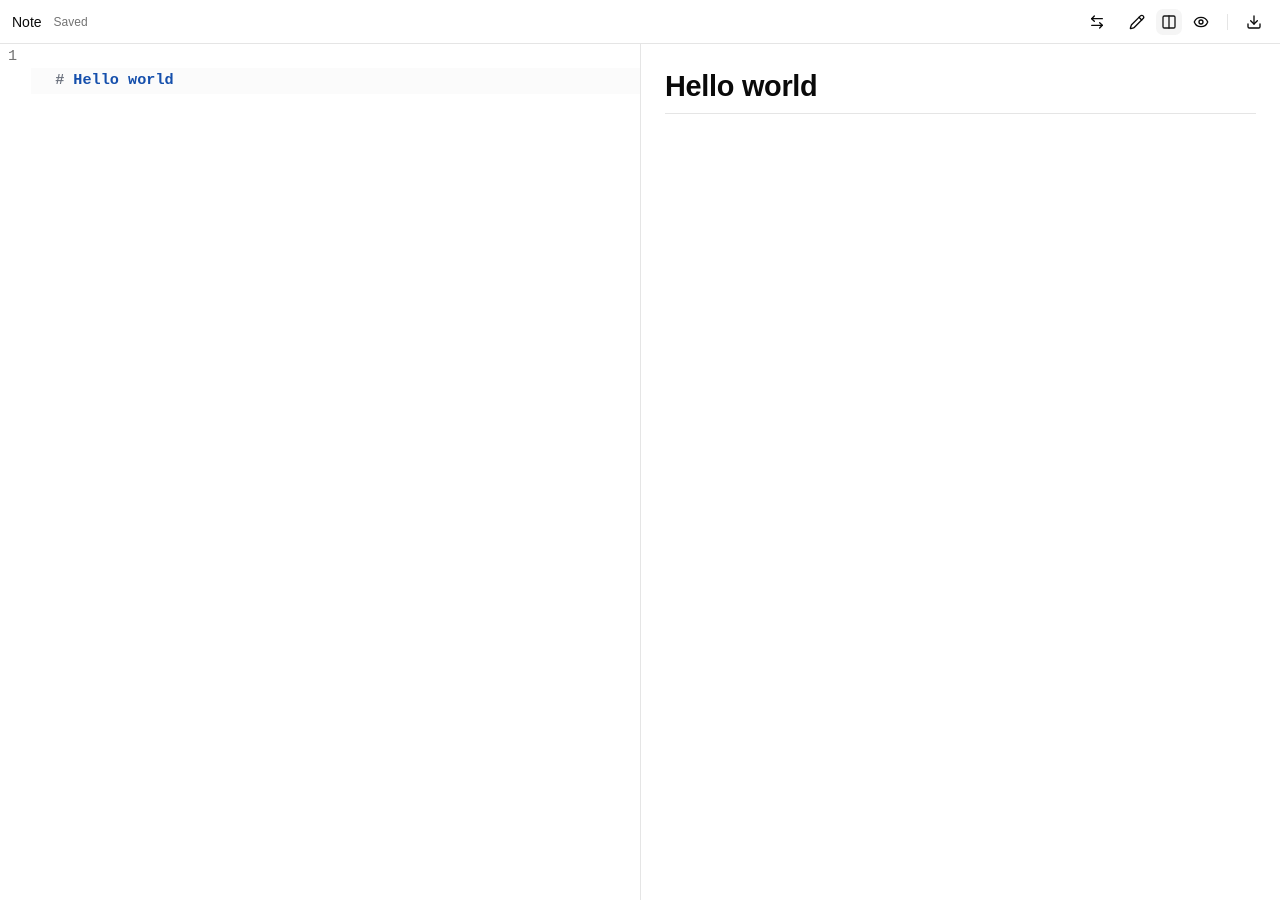
NotesEditor view modes › keeps the CodeMirror editor mounted when switching to preview and back
The width and height of the screenshot is (1280, 900).
Expected: the element with class "cm-editor" is shown, [0,44,640,899]
Click the button named "Preview only" at (1201, 22), box [1187,8,1215,36]
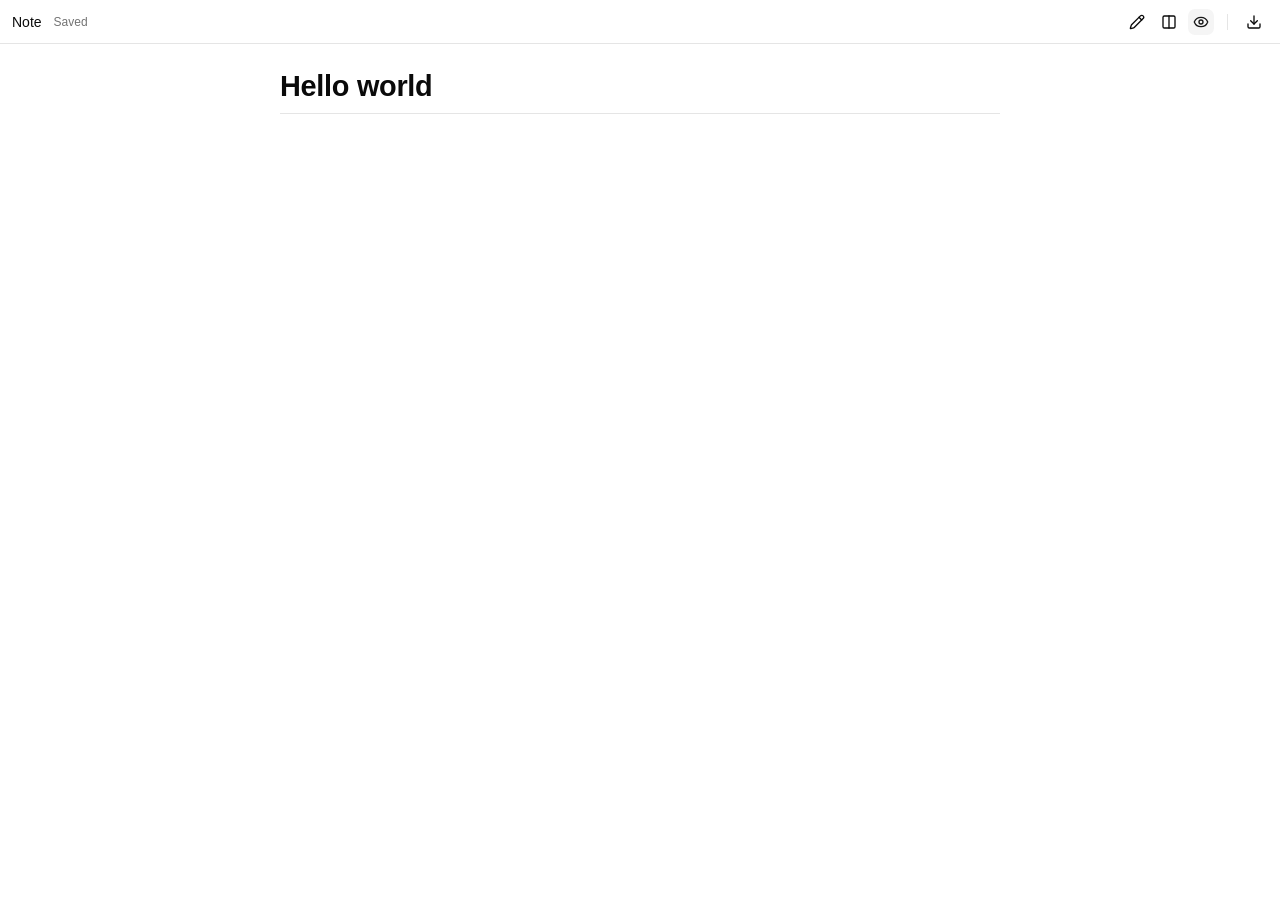
Click the button named "Editor only" at (1137, 22), box [1123,8,1151,36]
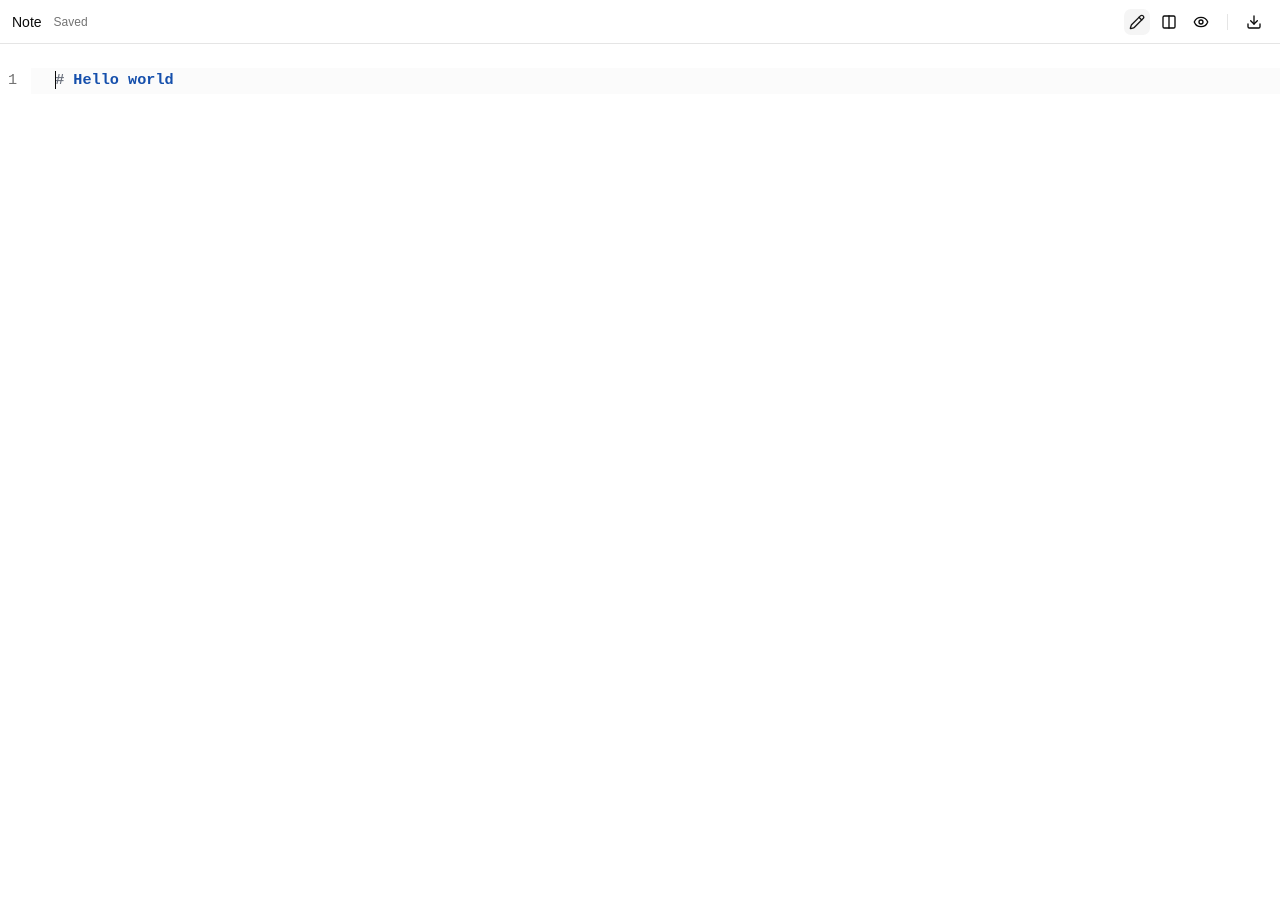
Now the element with class "cm-editor" is shown
